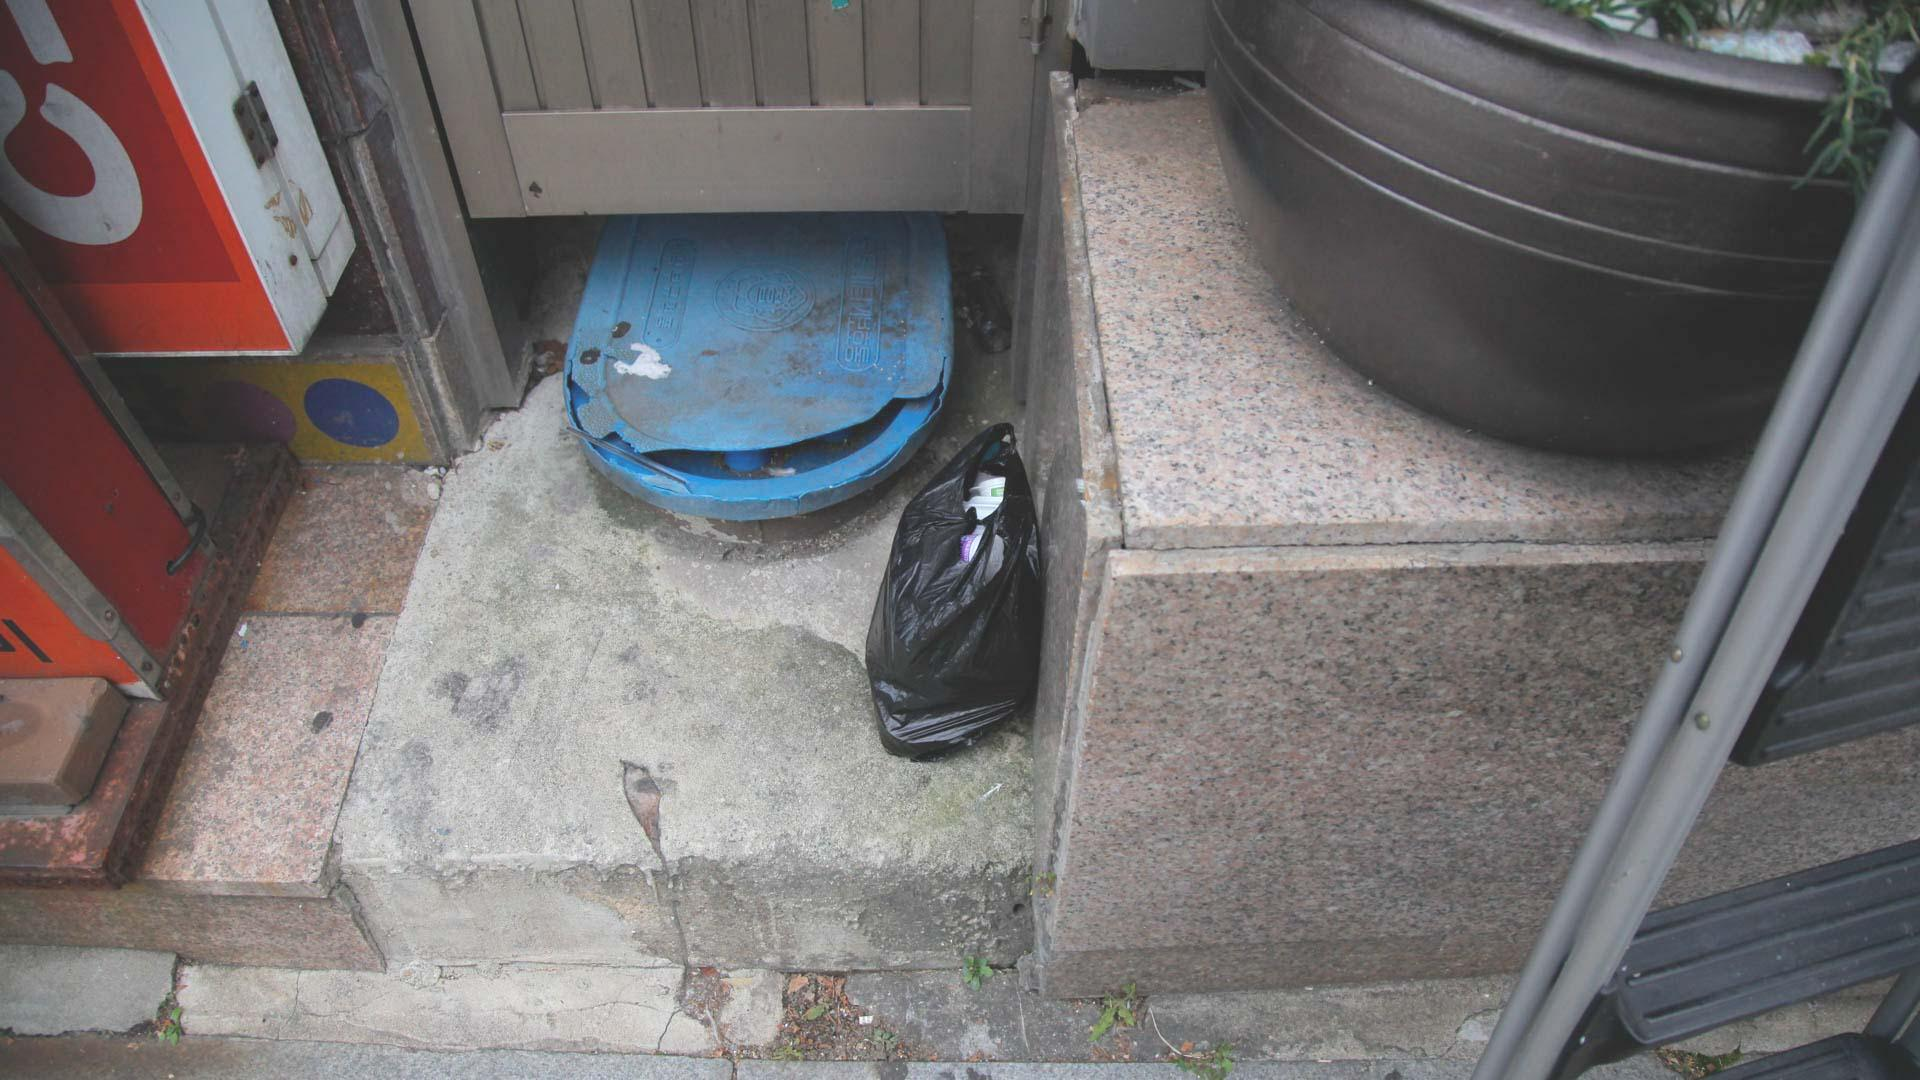black_bag: (855, 413, 1058, 760)
